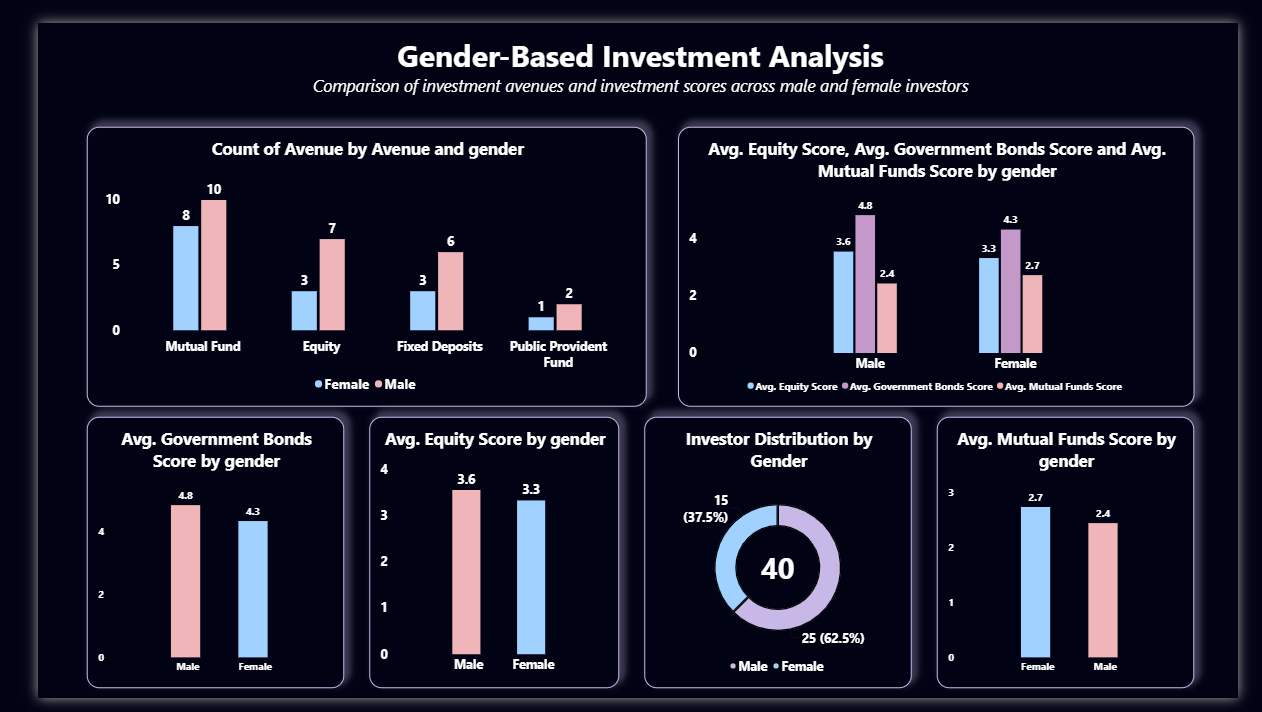

This screenshot's page, from the dashboard's own definition file:
{"tool":"powerbi","page":{"name":"Gender-Based Analysis","canvas":[1920,1080],"ordinal":1},"visuals":[{"type":"textbox","box":[78,18,1772,66],"z":0},{"type":"clusteredColumnChart","fields":{"Category":["Investments.Avenue"],"Y":["CountNonNull(Investments.Avenue)"],"Series":["Investments.gender"]},"box":[78,166,896,448],"z":1000},{"type":"donutChart","title":"Investor Distribution by Gender","fields":{"Category":["Investments.gender"],"Y":["CountNonNull(Investments.gender)"]},"box":[970,630,428,434],"z":2000},{"type":"clusteredColumnChart","fields":{"Category":["Investments.gender"],"Y":["All_Measures.Average Mutual Funds Score"]},"box":[1438,630,412,434],"z":3000},{"type":"clusteredColumnChart","fields":{"Category":["Investments.gender"],"Y":["All_Measures.Average Equity Score"]},"box":[530,630,400,434],"z":4000},{"type":"clusteredColumnChart","fields":{"Category":["Investments.gender"],"Y":["All_Measures.Average Government Bonds Score"]},"box":[78,630,412,434],"z":5000},{"type":"clusteredColumnChart","fields":{"Category":["Investments.gender"],"Y":["All_Measures.Average Equity Score","All_Measures.Average Government Bonds Score","All_Measures.Average Mutual Funds Score"]},"box":[1024,166,826,448],"z":6000},{"type":"textbox","box":[77.5,82.5,1772.5,47.5],"z":6001}]}

Visuals, with their boxes in screenshot pixels (x1, y1, x2, y2), scaled from the page's 1920x1080 canvas onto the 1262x712 screenshot:
textbox: {"x1": 51, "y1": 12, "x2": 1216, "y2": 55}
clusteredColumnChart - Investments.Avenue x CountNonNull(Investments.Avenue): {"x1": 51, "y1": 109, "x2": 640, "y2": 405}
"Investor Distribution by Gender" donutChart: {"x1": 638, "y1": 415, "x2": 919, "y2": 701}
clusteredColumnChart - Investments.gender x All_Measures.Average Mutual Funds Score: {"x1": 945, "y1": 415, "x2": 1216, "y2": 701}
clusteredColumnChart - Investments.gender x All_Measures.Average Equity Score: {"x1": 348, "y1": 415, "x2": 611, "y2": 701}
clusteredColumnChart - Investments.gender x All_Measures.Average Government Bonds Score: {"x1": 51, "y1": 415, "x2": 322, "y2": 701}
clusteredColumnChart - Investments.gender x All_Measures.Average Equity Score: {"x1": 673, "y1": 109, "x2": 1216, "y2": 405}
textbox: {"x1": 51, "y1": 54, "x2": 1216, "y2": 86}
